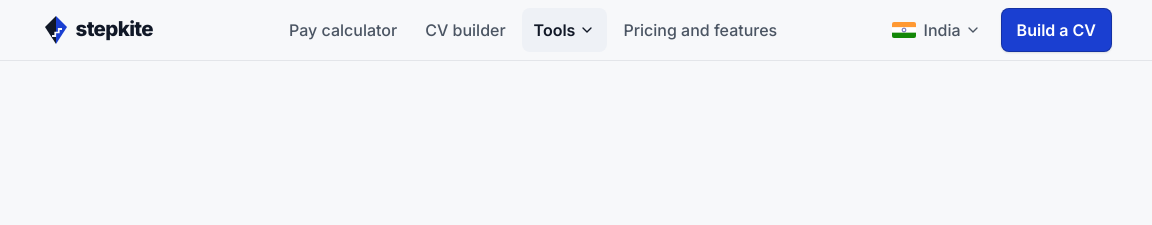
Test: Header › opens the Tools menu, lists real routes and closes on Escape
Expected: the link "Job tracker" is not shown
Click the button "Tools".
click(564, 30)  # box [522,8,607,52]
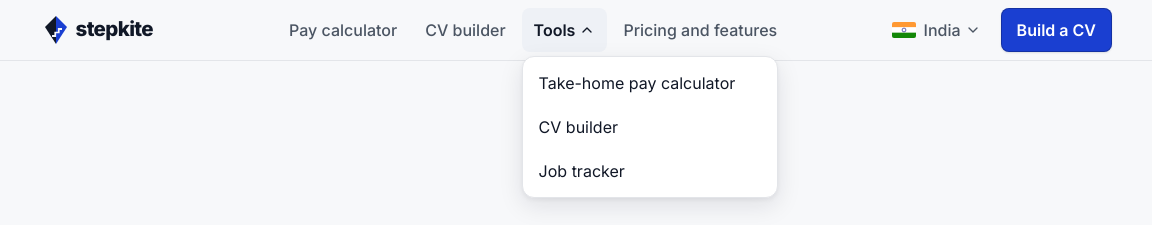
Now the button "Tools" is expanded, box [522,8,607,52]
Press Escape
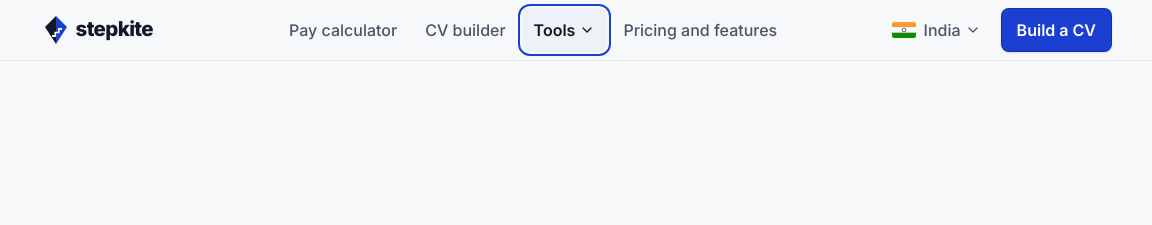
Now the button "Tools" is collapsed, box [522,8,607,52]
